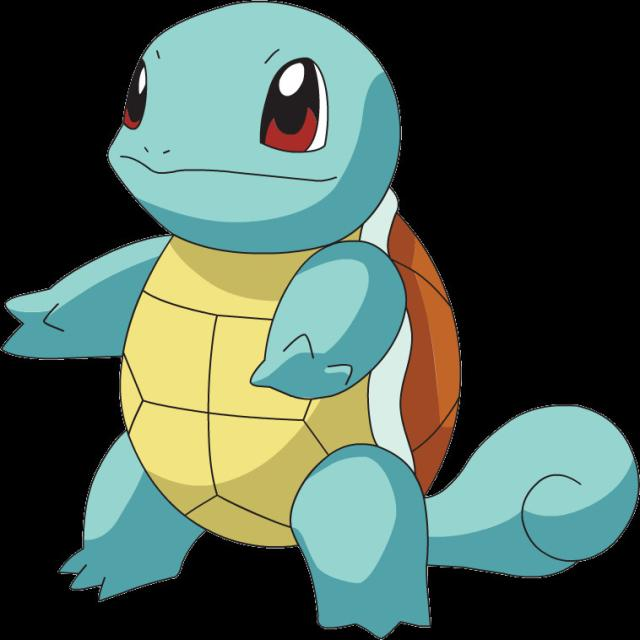Squirtle: (66, 0, 492, 640)
